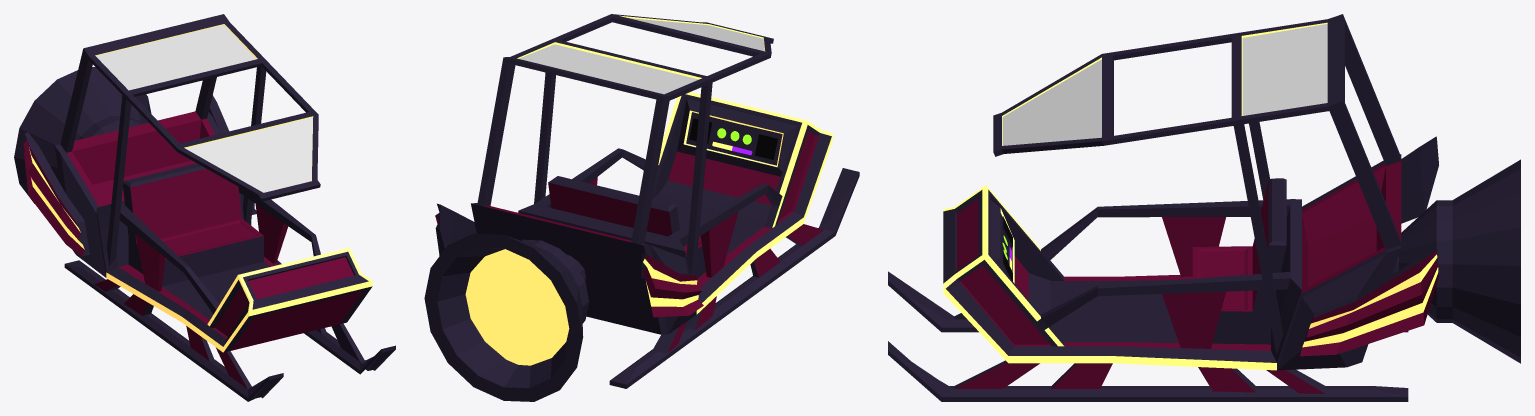
File: Sled.fbx
3 views of the same model, side by side, from view 1: azimuth 30°, elevation 25°; view 2: azimuth 150°, elevation 25°; view 3: azimuth 270°, elevation 25° (orthographic). The views are drawn at different scales.
Parts seen in each view (by area): view 1: Sled, Shader 1, Shader 2; view 2: Sled, Shader 2, Shader 1; view 3: Sled, Shader 2, Shader 1.
Part boxes in pixels (x1,y1,x2,y2): Sled: (14,14,395,401); Shader 1: (185,117,312,192); Shader 2: (96,24,256,90); Sled: (424,14,859,401); Shader 2: (518,44,698,94); Shader 1: (628,18,764,51); Sled: (888,14,1520,401); Shader 2: (1242,24,1327,115); Shader 1: (1002,59,1101,145).
Bounding box in the file's own units: 344 × 418 × 786.
